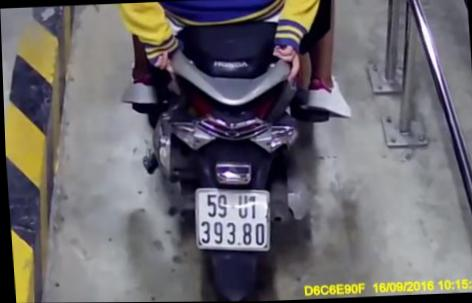LP: (191, 184, 273, 253)
